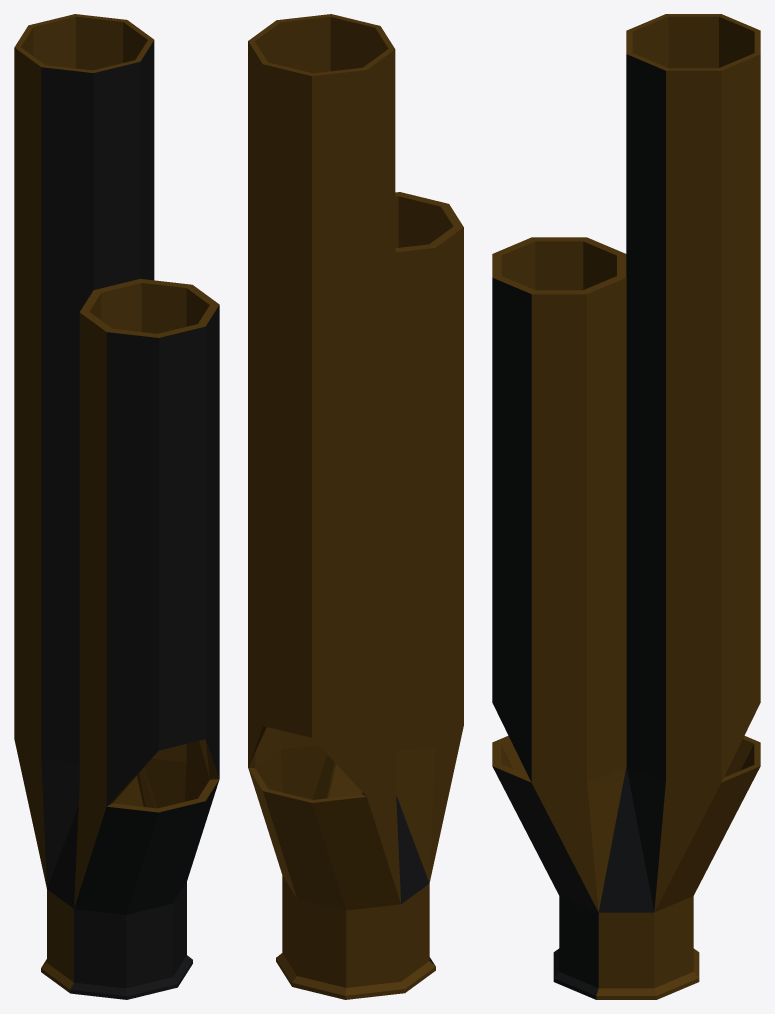
The model's file is whistle.obj.
The picture shows the model from 3 angles, left to right: view 1: azimuth 30°, elevation 25°; view 2: azimuth 150°, elevation 25°; view 3: azimuth 270°, elevation 25°; orthographic projection. The views are drawn at different scales.
Visible parts, largest first — view 1: Cylinder.001_Cylinder.001_Shadow, Cylinder.001_Cylinder.001_Metal; view 2: Cylinder.001_Cylinder.001_Metal, Cylinder.001_Cylinder.001_Shadow; view 3: Cylinder.001_Cylinder.001_Metal, Cylinder.001_Cylinder.001_Shadow.
Part boxes in pixels (x1,y1,x2,y2): Cylinder.001_Cylinder.001_Shadow: [41, 40, 219, 999]; Cylinder.001_Cylinder.001_Metal: [14, 14, 219, 995]; Cylinder.001_Cylinder.001_Metal: [248, 14, 463, 999]; Cylinder.001_Cylinder.001_Shadow: [396, 794, 434, 965]; Cylinder.001_Cylinder.001_Metal: [492, 14, 760, 999]; Cylinder.001_Cylinder.001_Shadow: [492, 54, 665, 999].
Size of the model in its own units: 1 by 7.03 by 1.85.
